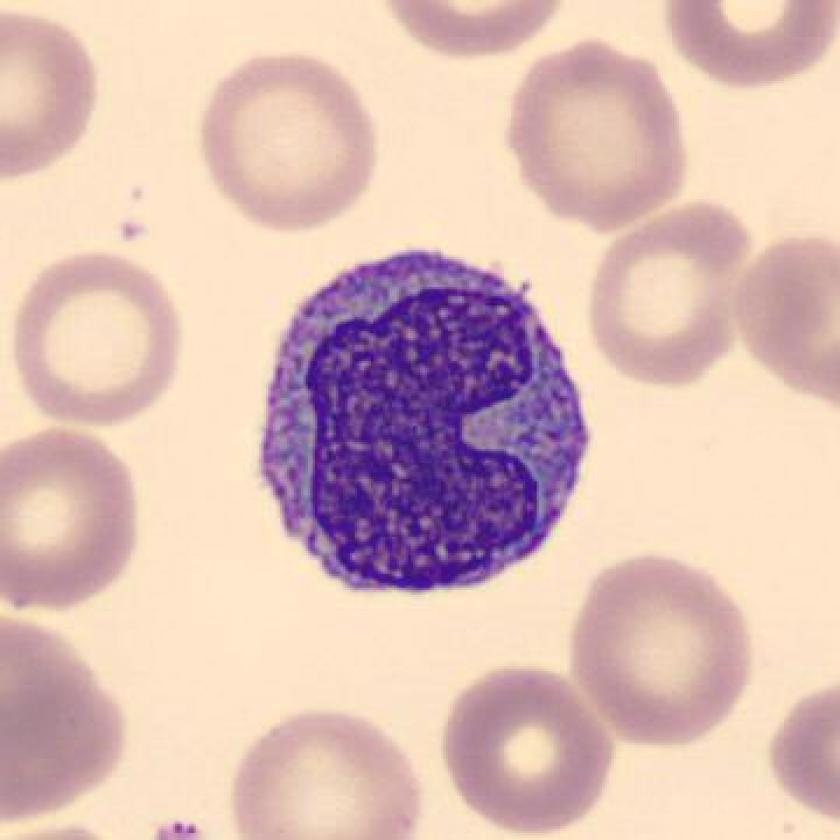monocyte: (234, 235, 608, 617)
